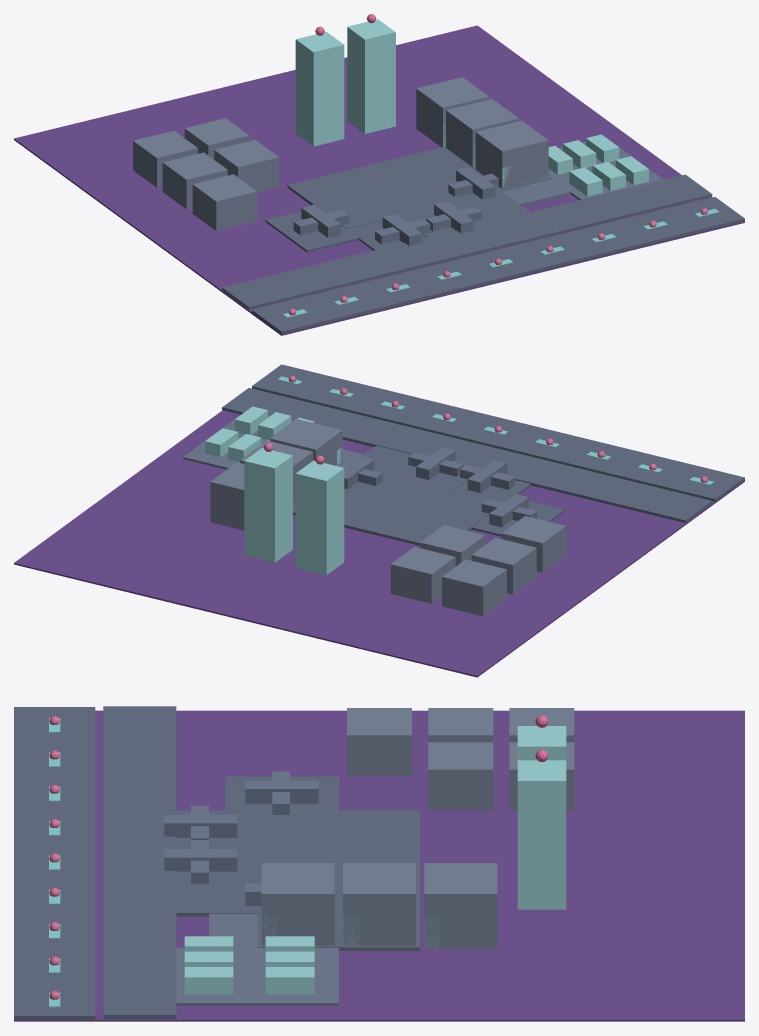
Rendered from stage_22.glb.
The picture shows the model from 3 angles, top to bottom: view 1: azimuth 30°, elevation 25°; view 2: azimuth 150°, elevation 25°; view 3: azimuth 270°, elevation 25°; orthographic projection. The views are drawn at different scales.
Visible parts, largest first — view 1: geometry_0; view 2: geometry_0; view 3: geometry_0.
Boxes of the visible parts, x1=… form: geometry_0: x1=14, y1=14, x2=744, y2=335; geometry_0: x1=14, y1=364, x2=744, y2=677; geometry_0: x1=14, y1=706, x2=744, y2=1021.
Bounding box in the file's own units: 9 × 2.06 × 9.
